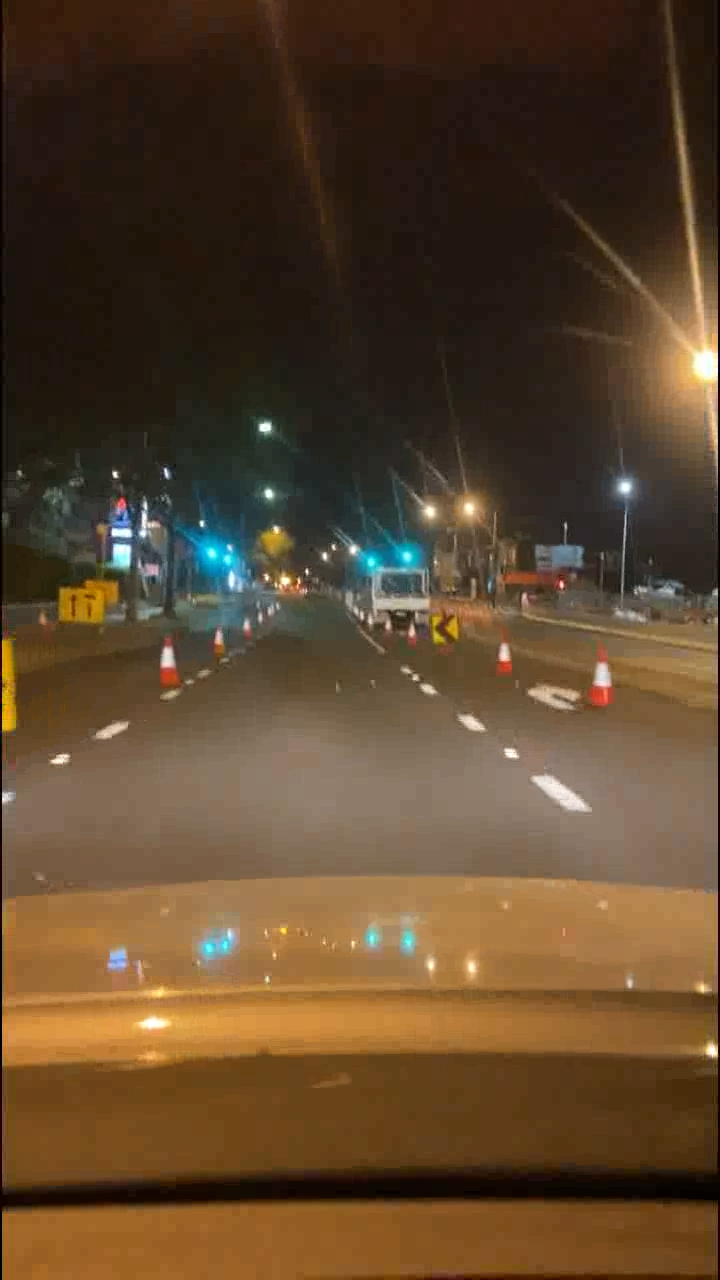road cone: (150, 636, 183, 698), (196, 617, 229, 679), (581, 646, 614, 708), (482, 625, 515, 687), (232, 601, 268, 646)
road works sign board: (56, 586, 108, 627), (431, 619, 464, 648)
truck: (354, 557, 441, 621)
